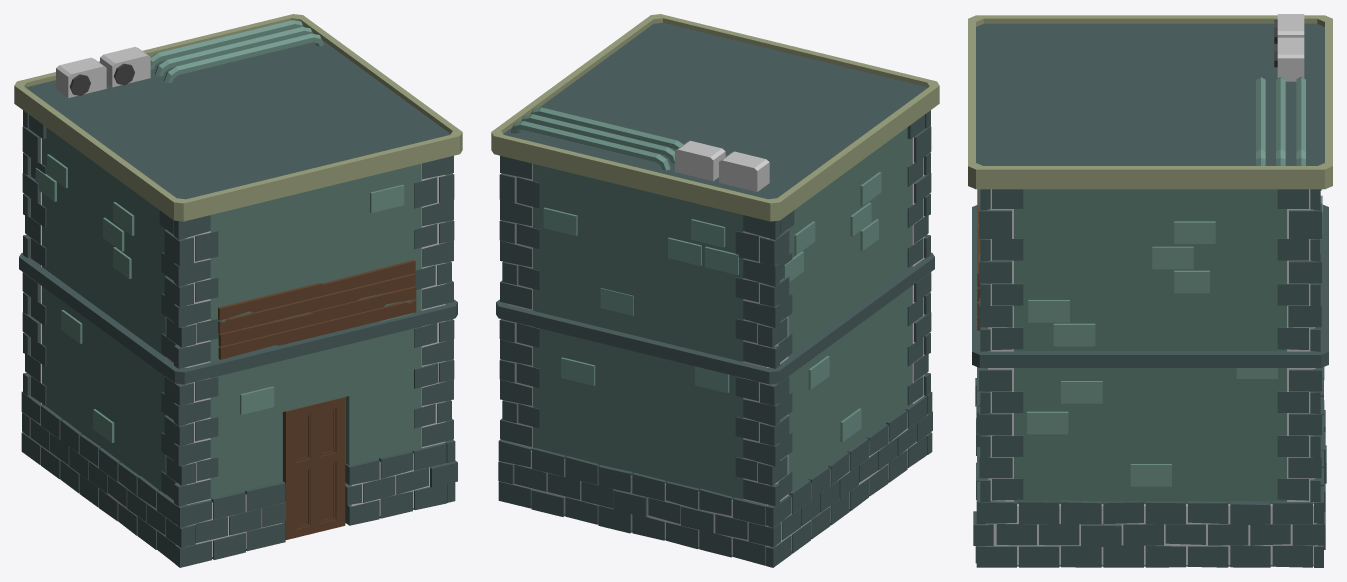
File: 2Story_Sign_Mat.gltf
3 views of the same model, side by side, from view 1: azimuth 30°, elevation 25°; view 2: azimuth 150°, elevation 25°; view 3: azimuth 270°, elevation 25° (orthographic). The views are drawn at different scales.
Visible parts, largest first — view 1: 2Story_Sign_Mat; view 2: 2Story_Sign_Mat; view 3: 2Story_Sign_Mat.
Part boxes in pixels (box(x1,y1,x2,y2)): 2Story_Sign_Mat: box(14, 14, 462, 567); 2Story_Sign_Mat: box(491, 14, 939, 567); 2Story_Sign_Mat: box(968, 14, 1332, 567).
Bounding box in the file's own units: 2.15 × 2.76 × 2.15.
